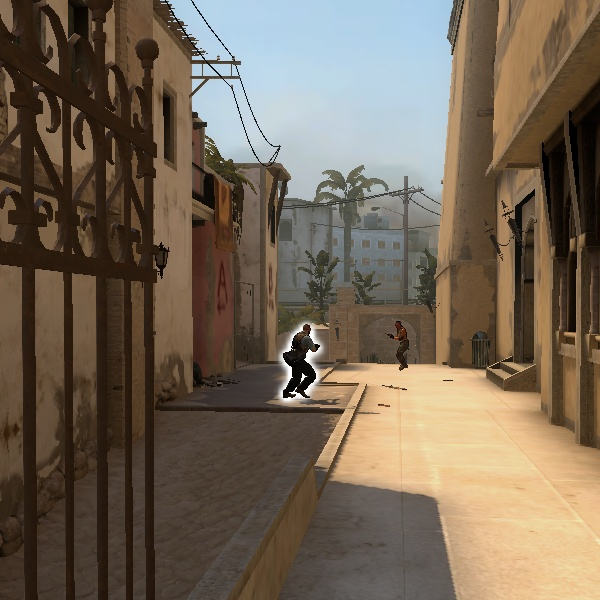t_body: (279, 322, 324, 399), (385, 318, 414, 369)
t_head: (300, 322, 315, 337), (393, 319, 406, 333)
